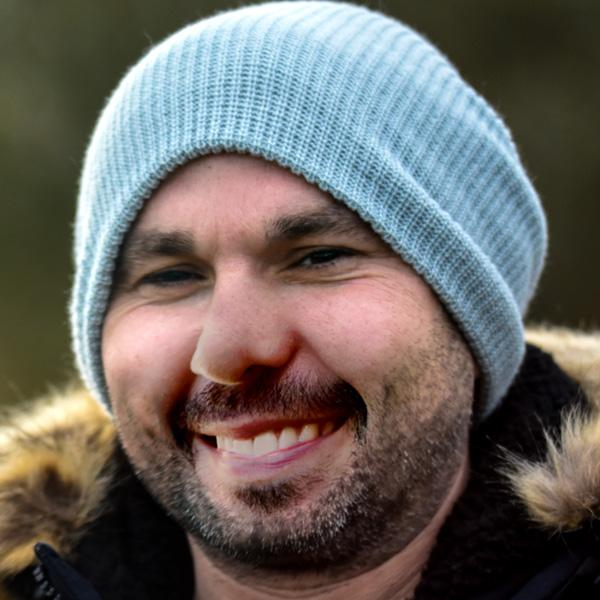Eyes: (125, 251, 219, 304), (279, 234, 375, 285)
